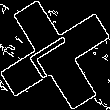L_NE: (25, 28, 85, 82)
